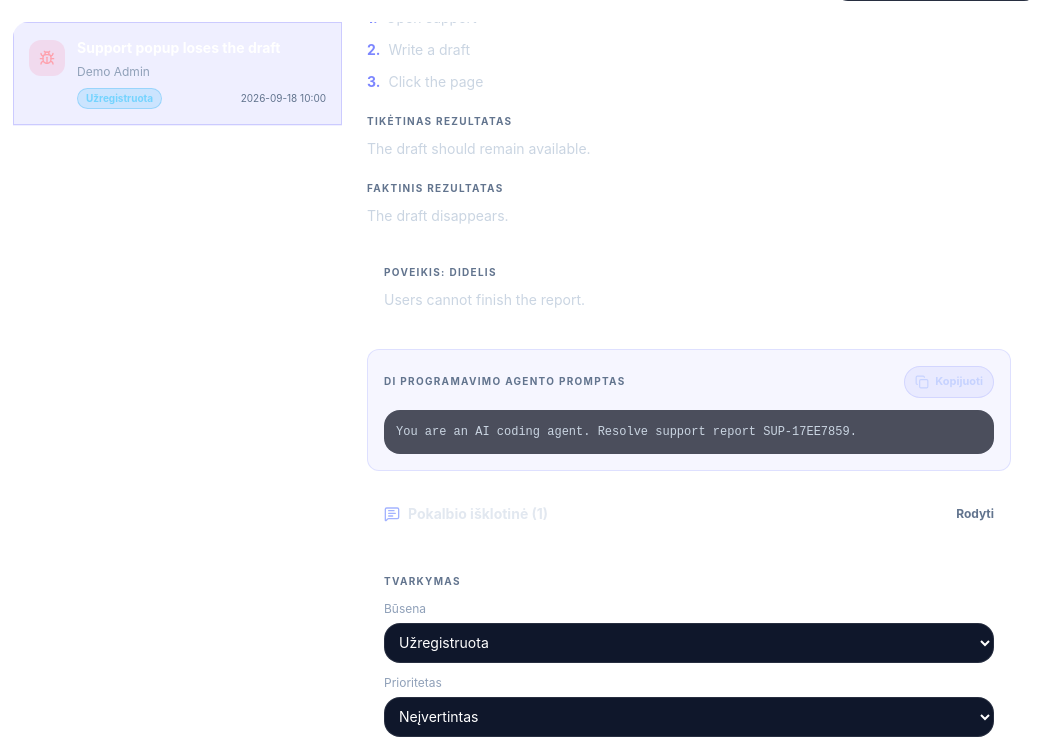
Test case: admin support requests › shows the generated coding-agent prompt with a confirmed copy action
(page scrolled)
expect the text "DI programavimo agento promptas" is shown: met, box top-left (384, 374), bottom-right (626, 389)
expect the text "You are an AI coding agent. Resolve support report SUP-17EE7859." is shown: met, box top-left (384, 410), bottom-right (994, 454)
What coordinates should you click on to do the following:
click the button "Kopijuoti"
I would click on:
 (949, 382)
Its box is top-left (904, 366), bottom-right (994, 398).
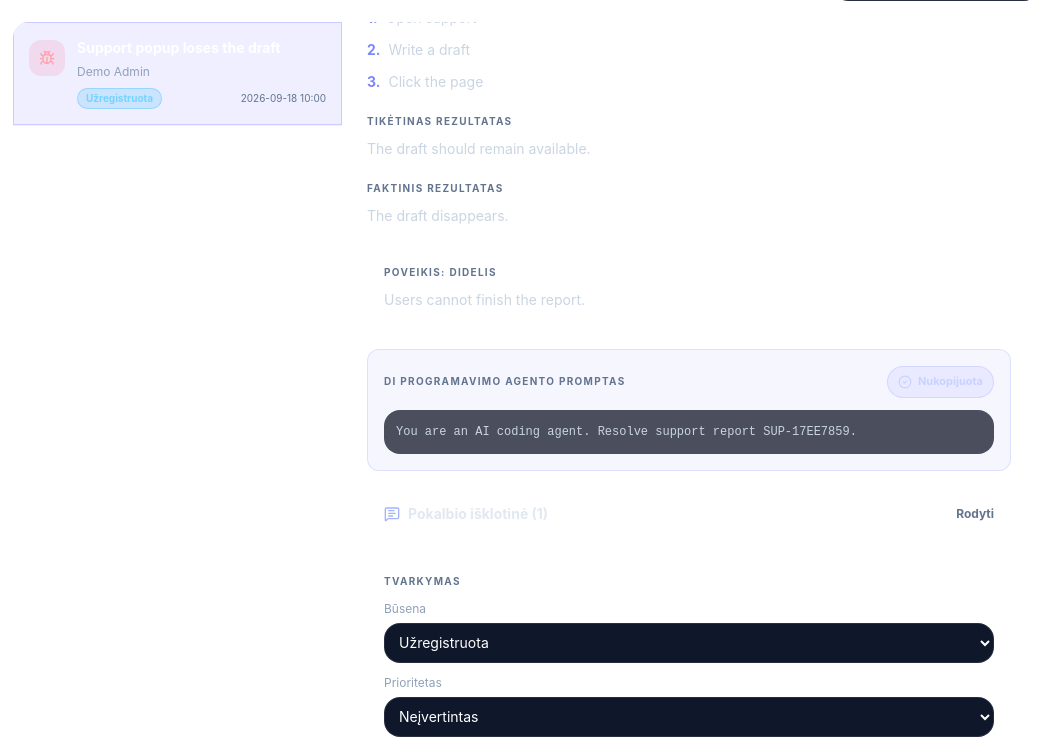
expect the button "Nukopijuota" is shown: met, box top-left (887, 366), bottom-right (994, 398)
